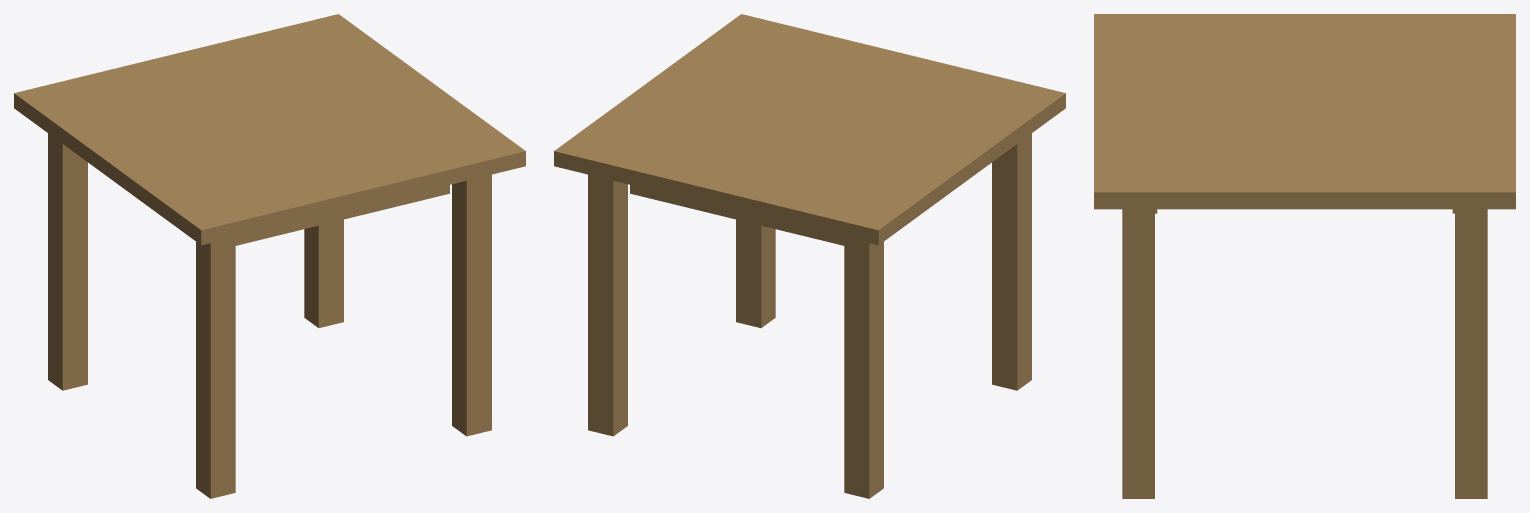
The model's file is dining_table_small.glb.
3 renders of one model, left to right at view 1: azimuth 30°, elevation 25°; view 2: azimuth 150°, elevation 25°; view 3: azimuth 270°, elevation 25°, orthographic. The views are drawn at different scales.
Visible parts, largest first — view 1: dining_table_small; view 2: dining_table_small; view 3: dining_table_small.
Boxes of the visible parts, x1=… form: dining_table_small: x1=14, y1=14, x2=525, y2=498; dining_table_small: x1=554, y1=14, x2=1065, y2=498; dining_table_small: x1=1094, y1=14, x2=1515, y2=498.
Size of the model in its own units: 0.9 by 0.75 by 0.9.
